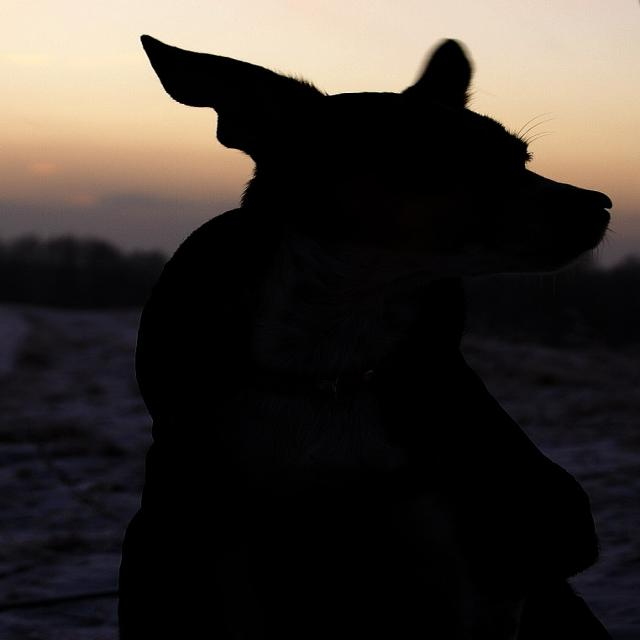dog: (85, 18, 614, 640)
